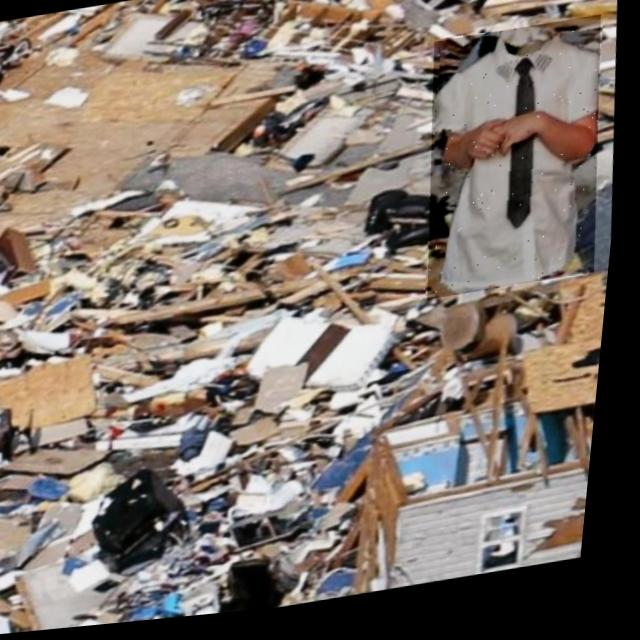Person in Rubble: (415, 25, 620, 310)
